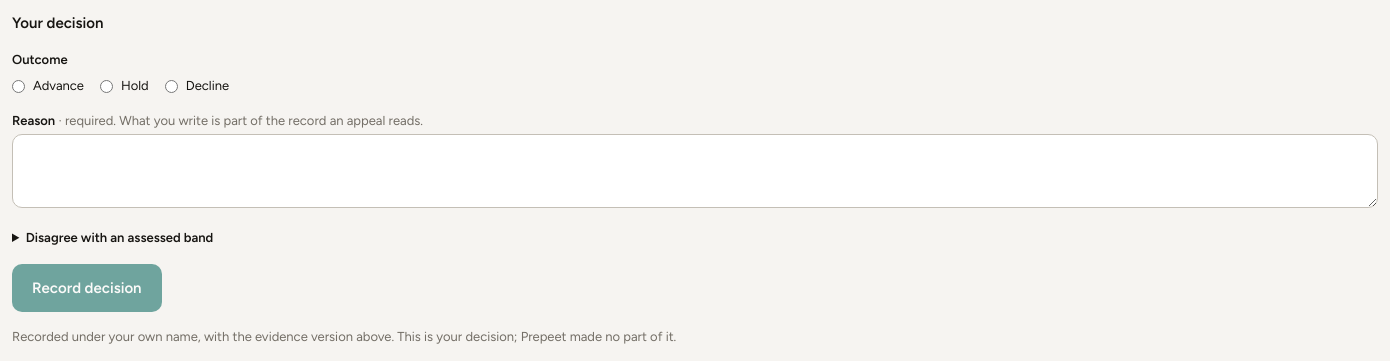
Test: the decision panel › records nothing without an outcome and a reason
expect the button "Record decision" is disabled: met, box [12,264,162,312]
Click the radio button labelled "Advance". click: (18, 86)
box: [12,80,25,93]
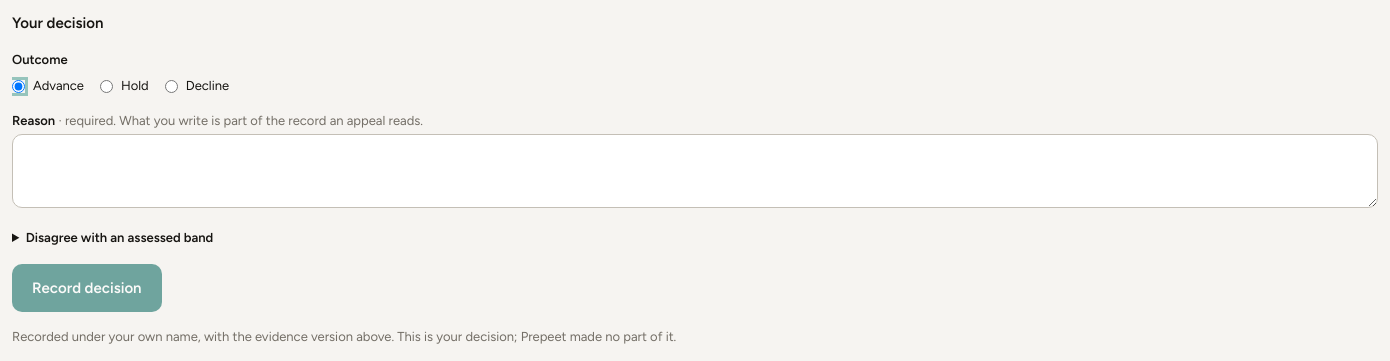
expect the button "Record decision" is disabled: met, box [12,264,162,312]
Type "evidenced throughout" into the text box labelled "Reason". click: (695, 171)
box: [12,134,1378,208]
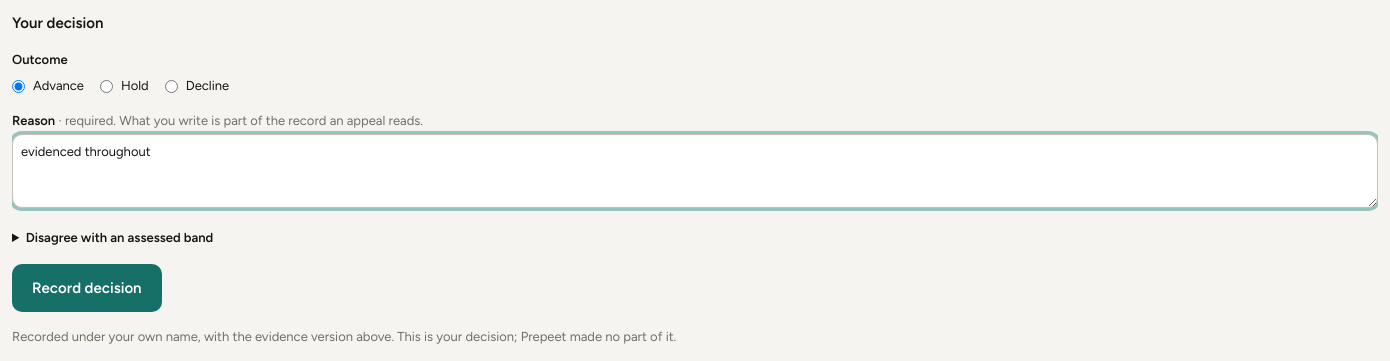
expect the button "Record decision" is enabled: met, box [12,264,162,312]
